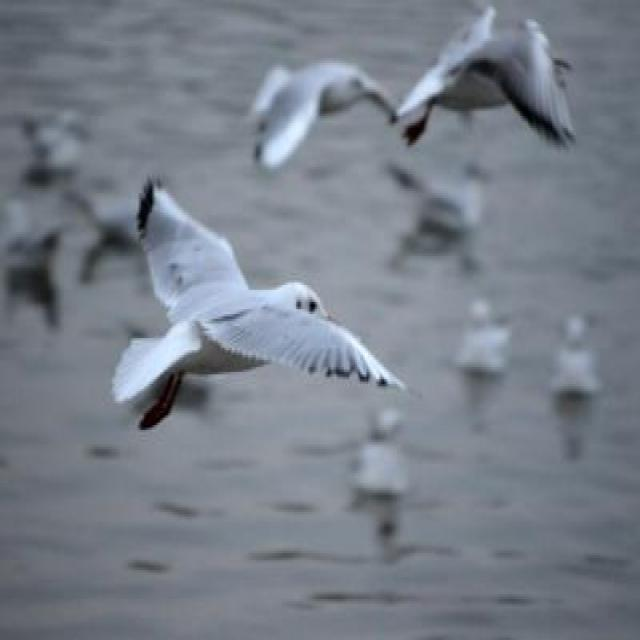birds: (105, 161, 407, 497), (394, 0, 582, 167), (247, 56, 401, 182)
